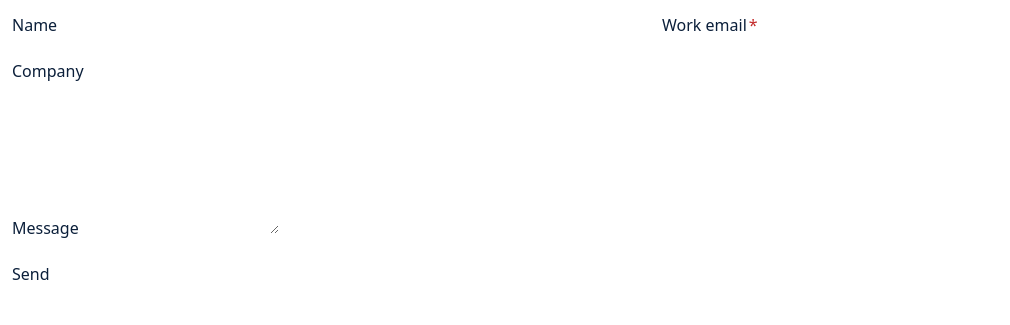
Test: LeadForm › rejects an address that is not one
The width and height of the screenshot is (1010, 325).
Type "not-an-email" into the field labelled "Work email*" at (873, 25), box x1=758 y1=12 x2=989 y2=38
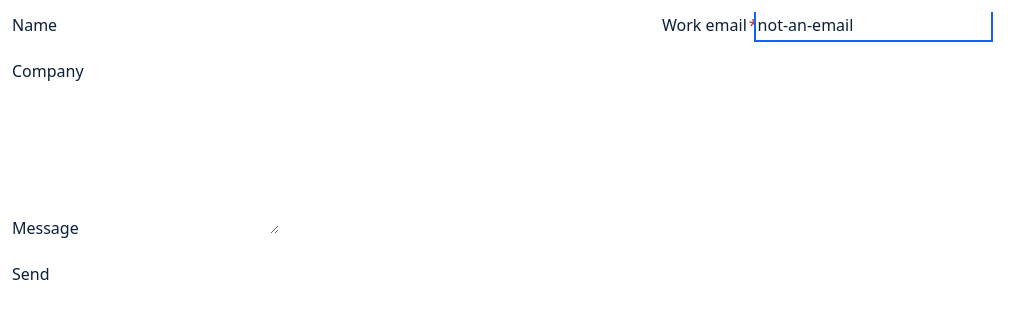
Click the button "Send" at (31, 274), box x1=12 y1=261 x2=50 y2=287
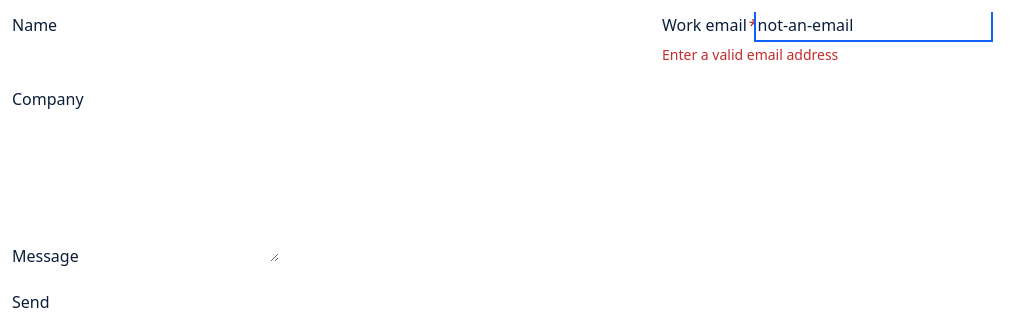
Check: the text "Enter a valid email address" is shown, box x1=662 y1=45 x2=838 y2=64
